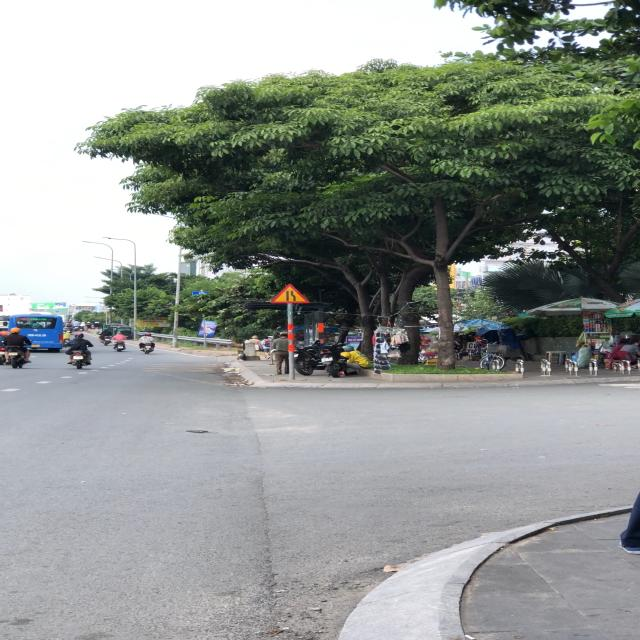Bien bao duong bi thu hep: (269, 283, 311, 303)
